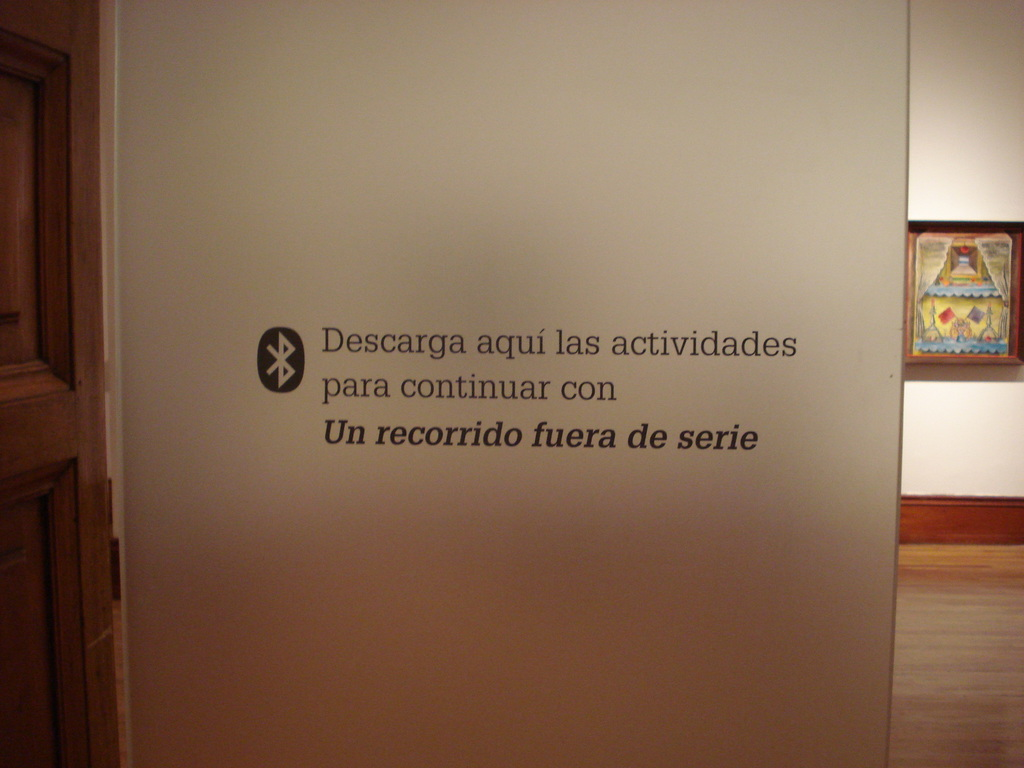door: (24, 74, 104, 759)
